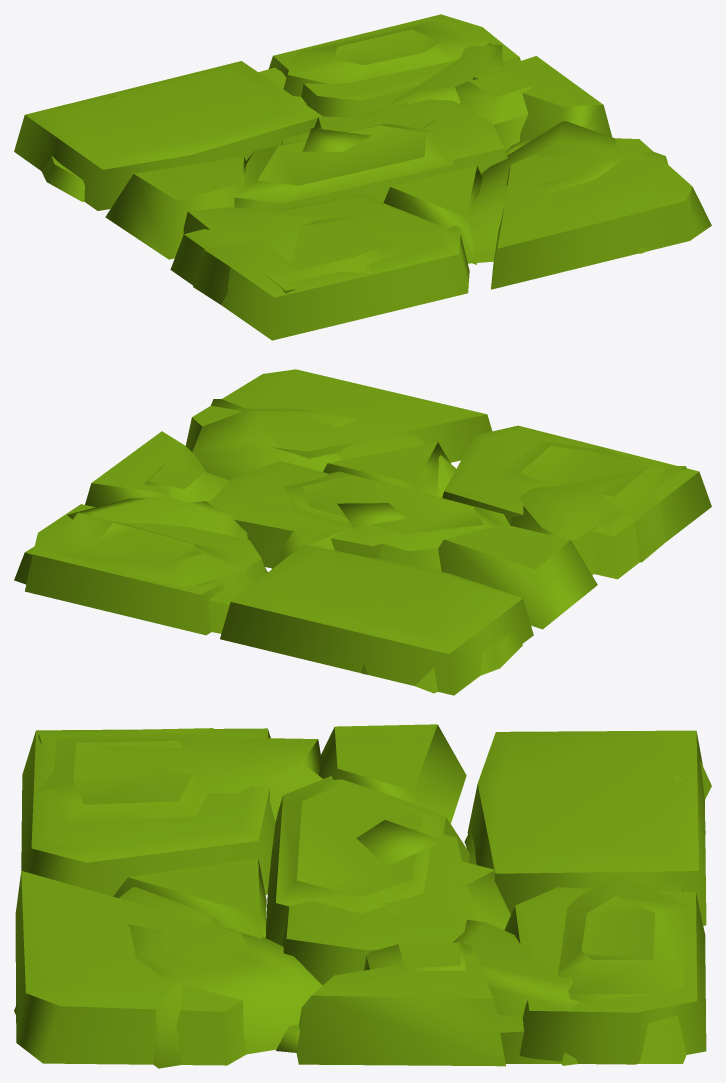
Rendered from rock_tiles_01.fbx.
3 renders of one model, top to bottom at view 1: azimuth 30°, elevation 25°; view 2: azimuth 150°, elevation 25°; view 3: azimuth 270°, elevation 25°, orthographic. The views are drawn at different scales.
Parts seen in each view (by area): view 1: stone_tile_01, stone_tile_dmg_01, stone_tile_dmg_02, stone_tile_02; view 2: stone_tile_01, stone_tile_dmg_01, stone_tile_dmg_02, stone_tile_02; view 3: stone_tile_01, stone_tile_dmg_01, stone_tile_dmg_02, stone_tile_02.
Part boxes in pixels (left/top/right/bottom): stone_tile_01: left=14, top=14, right=711, bottom=340; stone_tile_dmg_01: left=107, top=21, right=647, bottom=304; stone_tile_dmg_02: left=302, top=44, right=668, bottom=194; stone_tile_02: left=41, top=67, right=530, bottom=293; stone_tile_01: left=25, top=369, right=711, bottom=695; stone_tile_dmg_01: left=53, top=440, right=666, bottom=674; stone_tile_dmg_02: left=67, top=399, right=406, bottom=539; stone_tile_02: left=14, top=433, right=686, bottom=693; stone_tile_01: left=15, top=724, right=706, bottom=1066; stone_tile_dmg_01: left=14, top=728, right=705, bottom=1065; stone_tile_dmg_02: left=127, top=820, right=580, bottom=1068; stone_tile_02: left=38, top=734, right=711, bottom=1063.
Size of the model in its own units: 1.37 by 0.1417 by 1.36.
